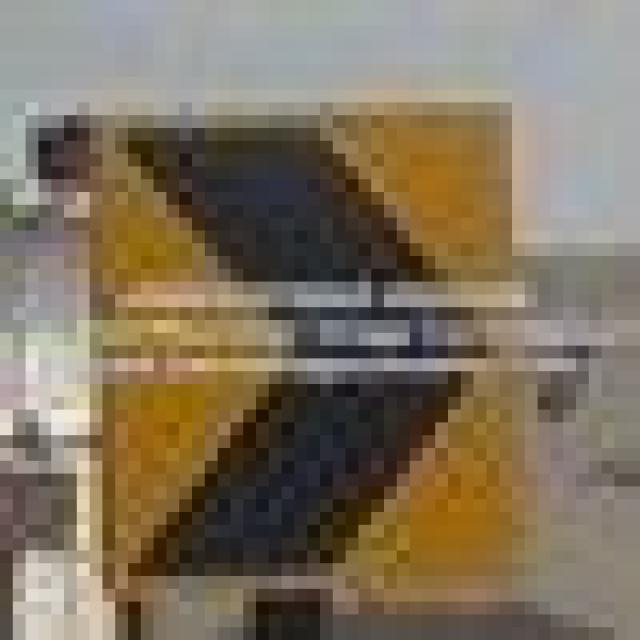direction: (77, 102, 525, 576)
